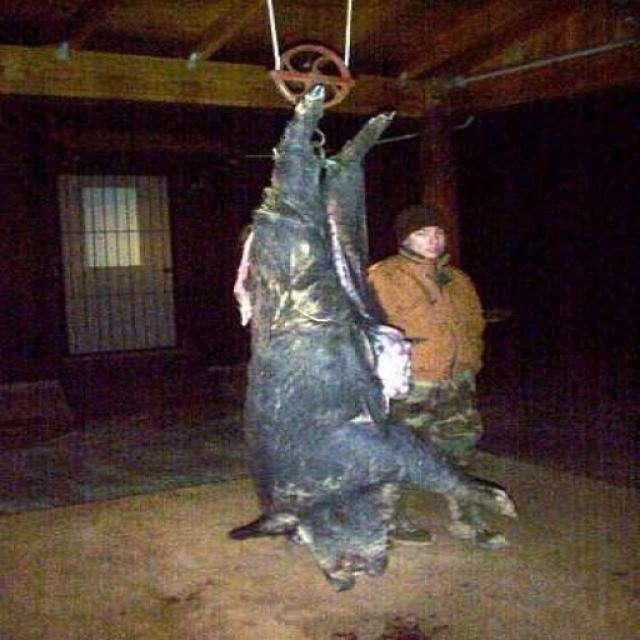pig: (188, 63, 484, 557)
